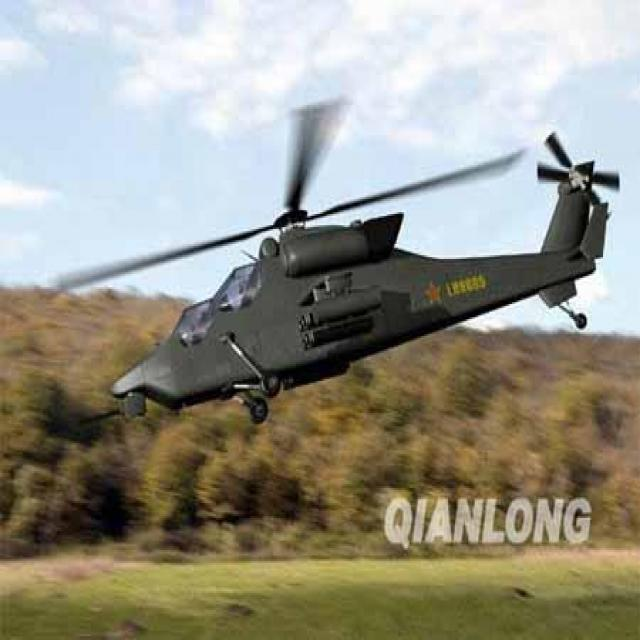MIL_HELO: (42, 73, 640, 446)
